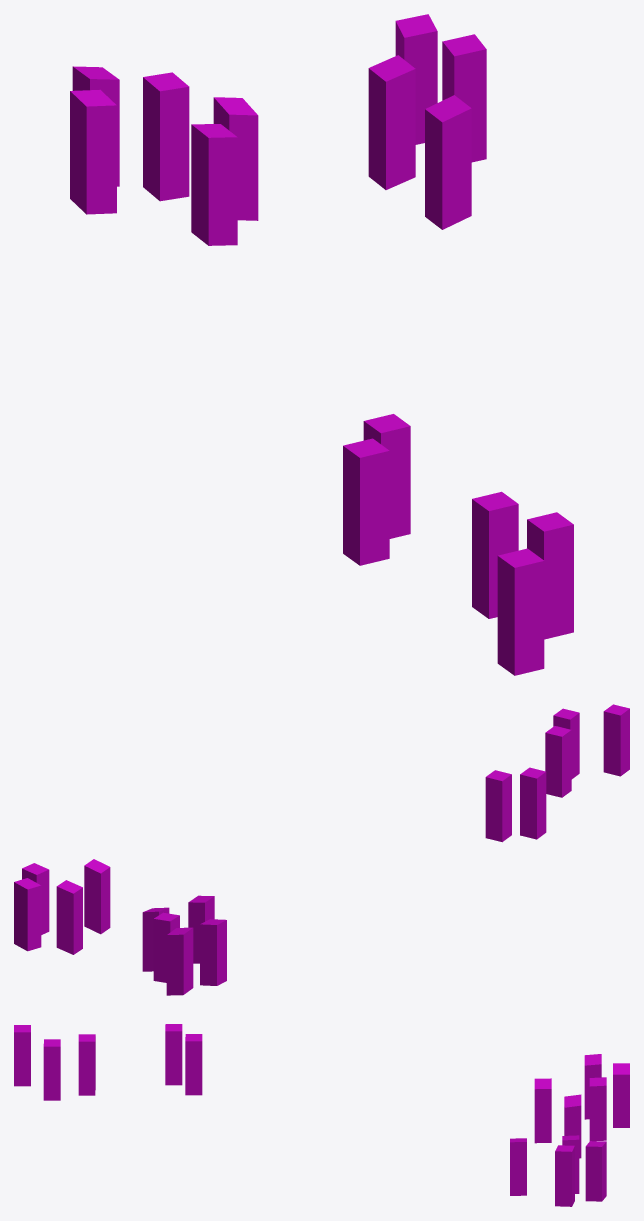
The model's file is M09_Z01_TeethBlock01.glb.
The picture shows the model from 3 angles, top to bottom: view 1: azimuth 30°, elevation 25°; view 2: azimuth 150°, elevation 25°; view 3: azimuth 270°, elevation 25°; orthographic projection. The views are drawn at different scales.
Parts seen in each view (by area): view 1: M09_Z01_TEETHBLOCK01; view 2: M09_Z01_TEETHBLOCK01; view 3: M09_Z01_TEETHBLOCK01.
Part boxes in pixels (x1,y1,x2,y2): M09_Z01_TEETHBLOCK01: (70,14,573,675); M09_Z01_TEETHBLOCK01: (14,704,629,995); M09_Z01_TEETHBLOCK01: (14,1024,629,1206).
Bounding box in the file's own units: 39.52 × 10.17 × 80.85.
